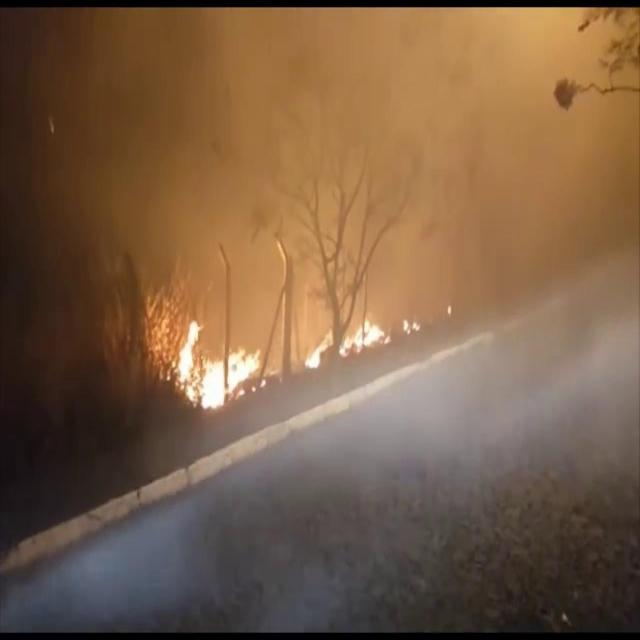Fire: (177, 317, 271, 411), (341, 316, 389, 354), (305, 329, 333, 367), (400, 317, 421, 335)
